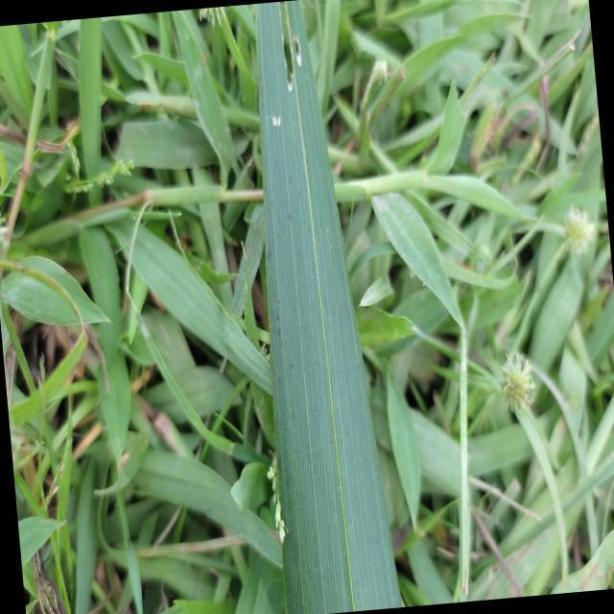Boron: (251, 5, 406, 614)
